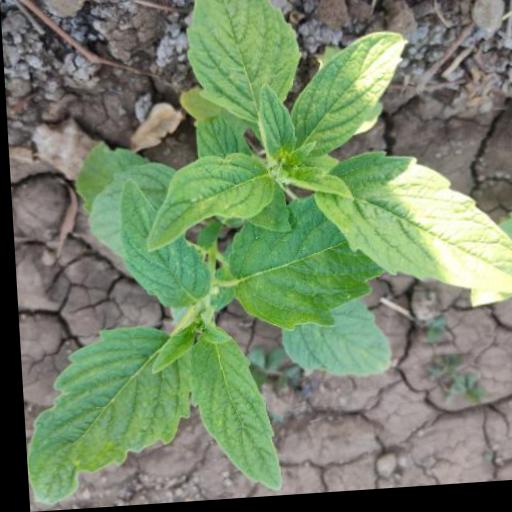crop: (113, 0, 512, 356), (8, 150, 394, 512)
